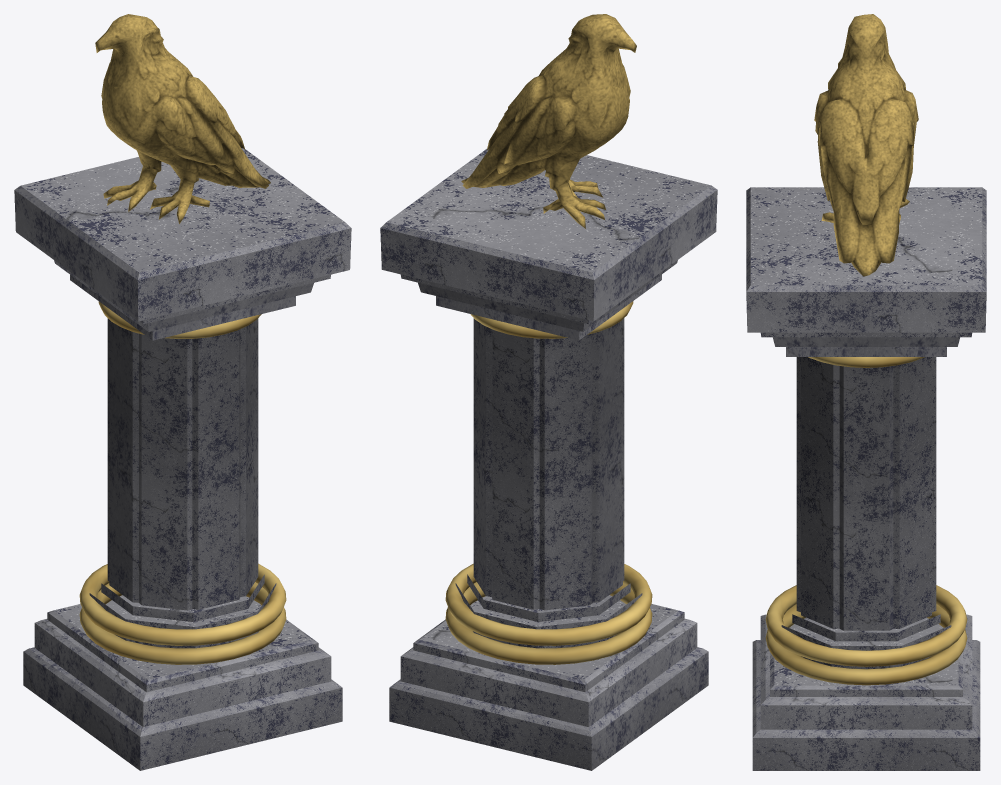
File: mm6_deco_pedestal_eagle.glb
3 views of the same model, side by side, from view 1: azimuth 30°, elevation 25°; view 2: azimuth 150°, elevation 25°; view 3: azimuth 270°, elevation 25° (orthographic). The views are drawn at different scales.
Visible parts, largest first — view 1: StatuetteEagle; view 2: StatuetteEagle; view 3: StatuetteEagle.
Boxes of the visible parts, bbox=[...] form: StatuetteEagle: bbox=[14, 14, 351, 770]; StatuetteEagle: bbox=[380, 14, 717, 770]; StatuetteEagle: bbox=[746, 14, 986, 770].
Size of the model in its own units: 0.8225 by 2.57 by 0.8225.
3 materials, 3 textured.
